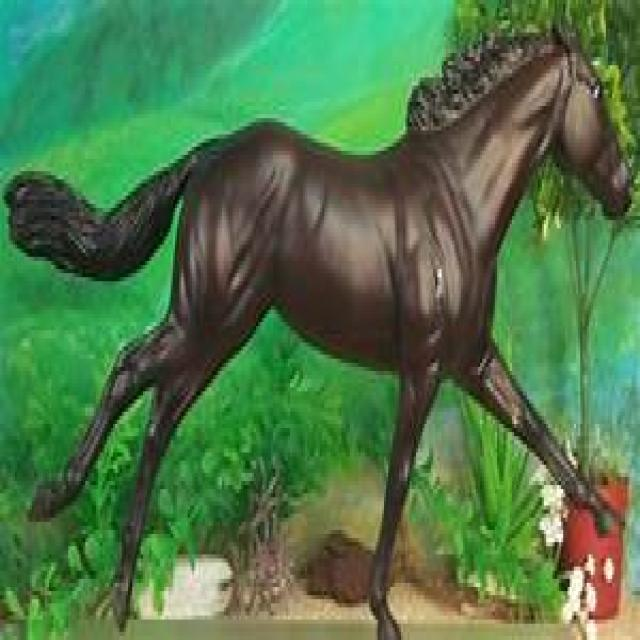horse: (8, 45, 628, 638)
